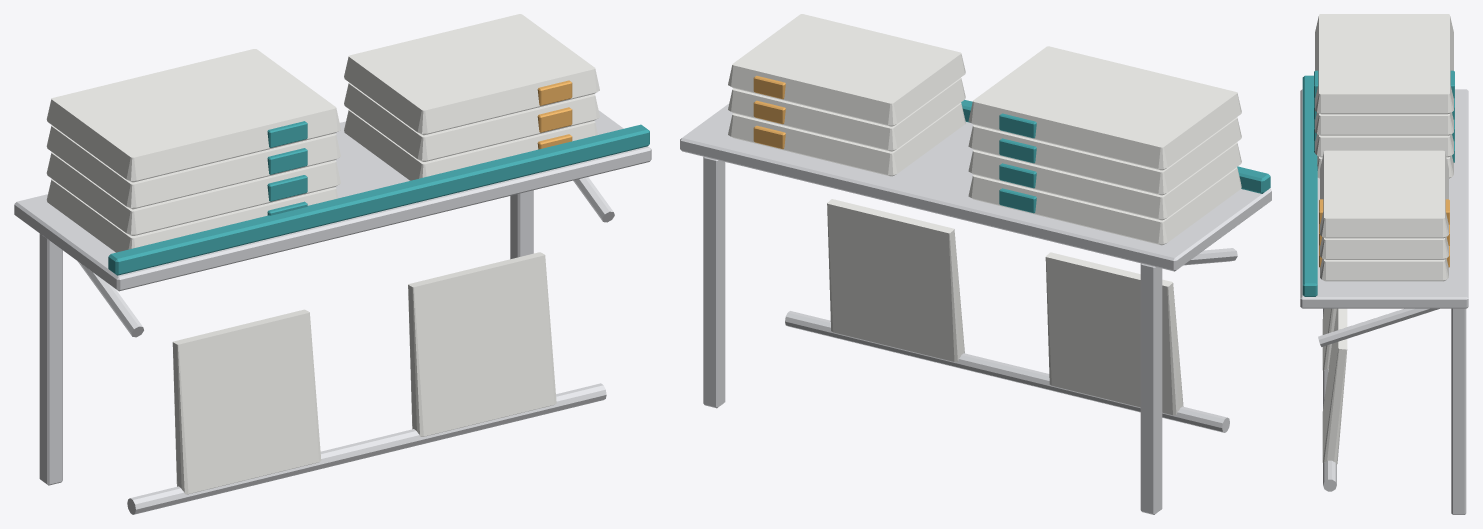
Rendered from pet-shop-and-grooming-salon-towel-shelf-37d778c4__34598.glb.
3 views of the same model, side by side, from view 1: azimuth 30°, elevation 25°; view 2: azimuth 150°, elevation 25°; view 3: azimuth 270°, elevation 25° (orthographic). The views are drawn at different scales.
Visible parts, largest first — view 1: towel-shelf; view 2: towel-shelf; view 3: towel-shelf.
Part boxes in pixels (x1,y1,x2,y2): towel-shelf: (14,14,651,514); towel-shelf: (680,14,1271,514); towel-shelf: (1300,14,1468,514).
Size of the model in its own units: 1 by 0.694 by 0.34.
